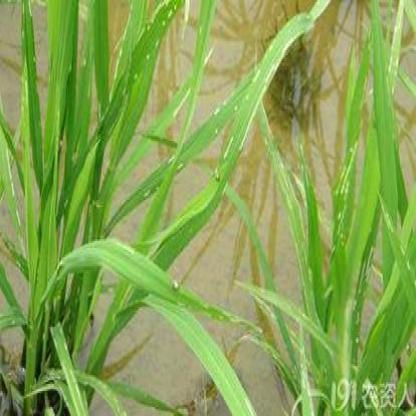rice-bug: (214, 163, 222, 183), (172, 280, 180, 294)
